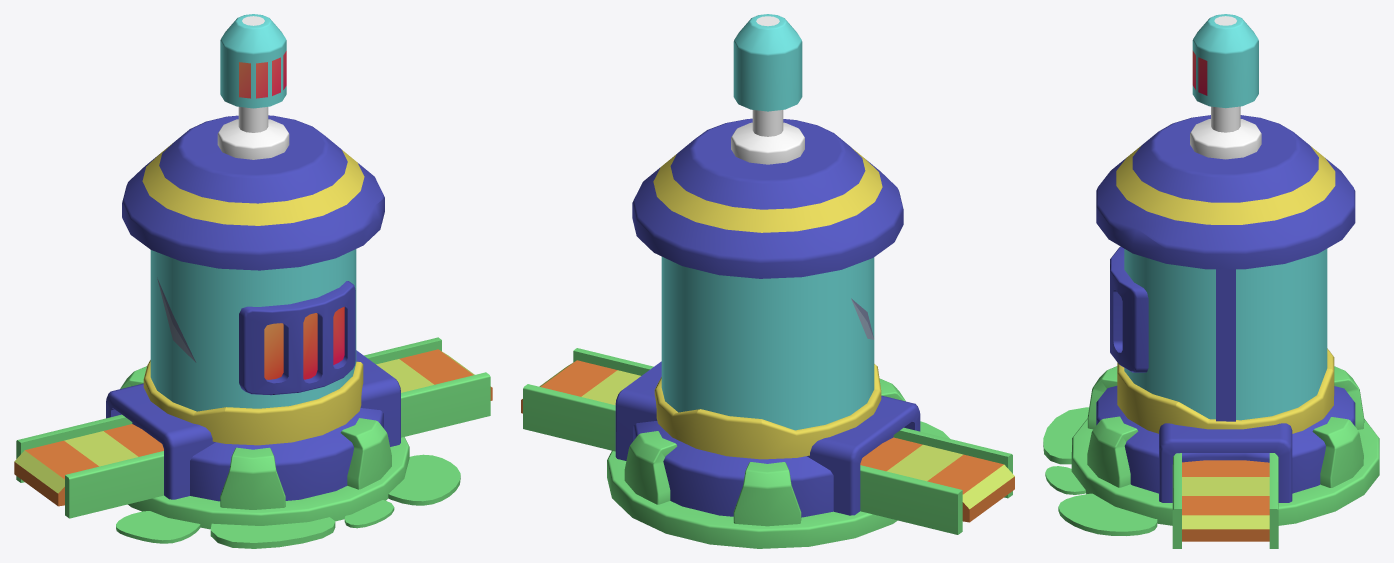
Rendered from IronHouse.fbx.
3 views of the same model, side by side, from view 1: azimuth 30°, elevation 25°; view 2: azimuth 150°, elevation 25°; view 3: azimuth 270°, elevation 25° (orthographic). The views are drawn at different scales.
Visible parts, largest first — view 1: Circle.010; view 2: Circle.010; view 3: Circle.010.
Boxes of the visible parts, <box> form: Circle.010: <box>14,14,492,548</box>; Circle.010: <box>521,14,1014,548</box>; Circle.010: <box>1043,14,1379,548</box>.
Bounding box in the file's own units: 592 × 579 × 398.
